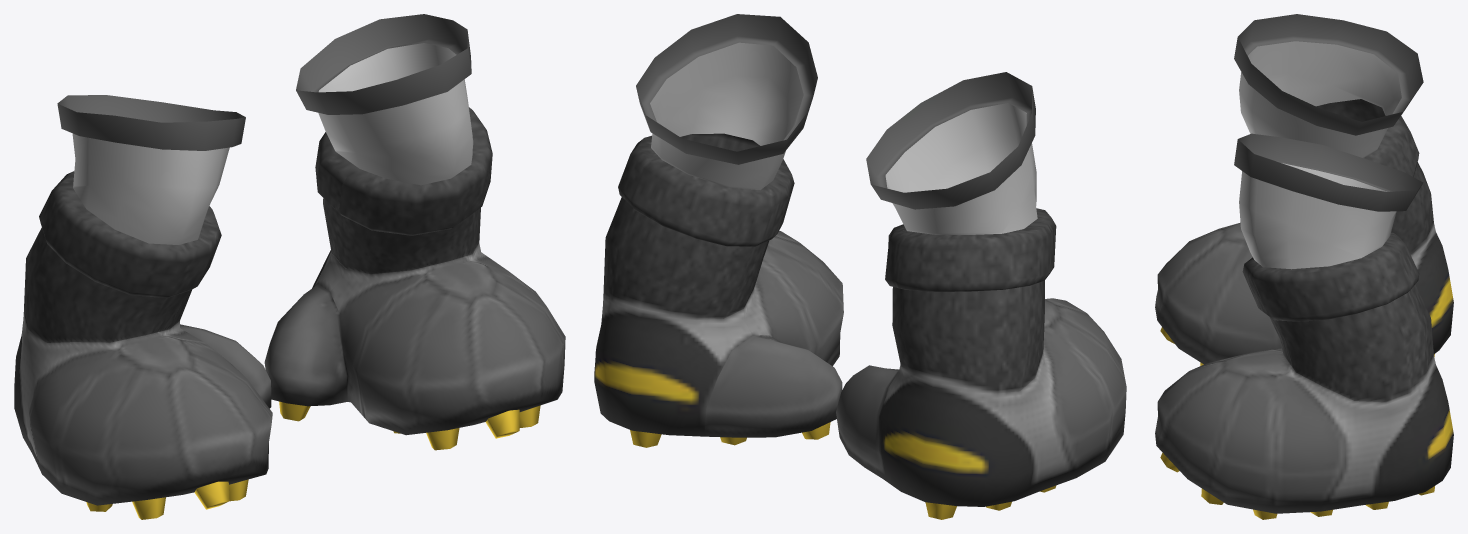
The picture shows the model from 3 angles, left to right: view 1: azimuth 30°, elevation 25°; view 2: azimuth 150°, elevation 25°; view 3: azimuth 270°, elevation 25°; orthographic projection. The views are drawn at different scales.
Parts seen in each view (by area): view 1: model_0_submesh_1, model_0_submesh_0; view 2: model_0_submesh_1, model_0_submesh_0; view 3: model_0_submesh_1, model_0_submesh_0.
Boxes of the visible parts, bbox=[...] form: model_0_submesh_1: bbox=[14, 14, 565, 519]; model_0_submesh_0: bbox=[72, 43, 473, 244]; model_0_submesh_1: bbox=[594, 14, 1126, 519]; model_0_submesh_0: bbox=[650, 42, 1037, 234]; model_0_submesh_1: bbox=[1155, 14, 1453, 519]; model_0_submesh_0: bbox=[1239, 41, 1401, 269].
Bounding box in the file's own units: 0.8828 × 0.6393 × 0.5128.
